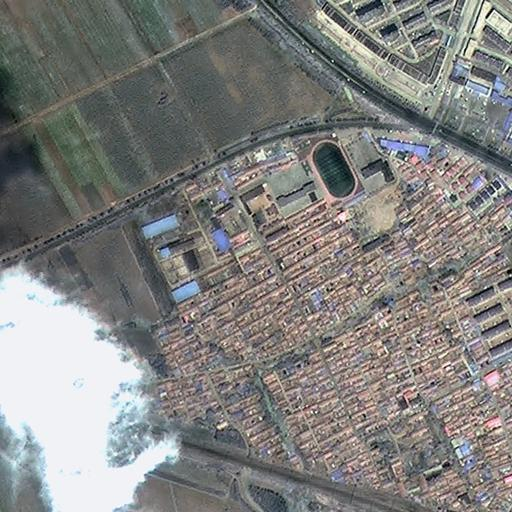school: (261, 135, 364, 214), (337, 125, 393, 190)
